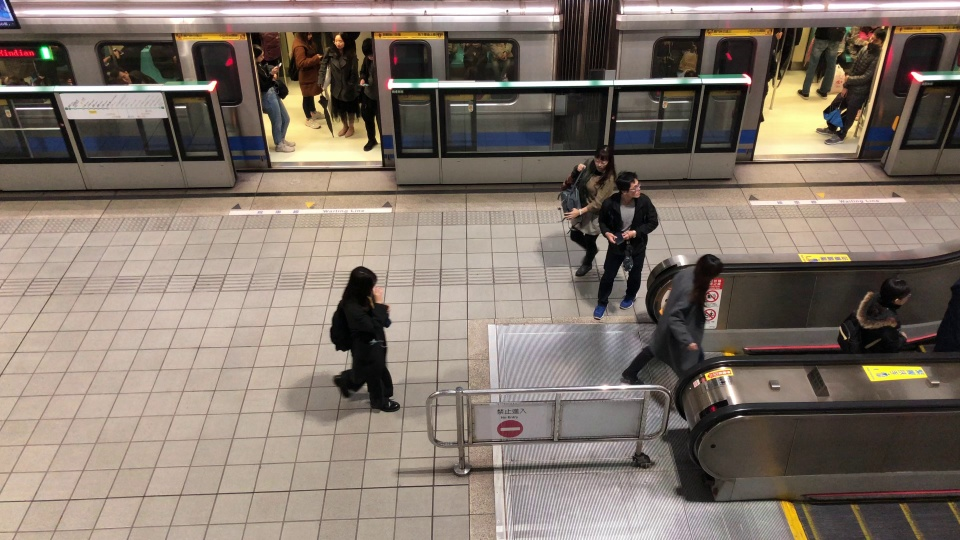person_head: (346, 267, 378, 309), (691, 254, 724, 292), (880, 275, 913, 311), (616, 169, 641, 202), (592, 142, 613, 172), (865, 26, 887, 50), (359, 38, 377, 61), (250, 43, 265, 63), (296, 31, 312, 44), (333, 34, 346, 50)
person_vbox: (617, 254, 726, 388), (588, 170, 660, 321), (328, 267, 402, 413), (814, 26, 888, 149), (558, 141, 616, 275), (834, 275, 913, 358), (248, 43, 296, 155), (317, 34, 361, 138), (289, 32, 325, 128), (359, 38, 388, 149), (799, 25, 838, 104), (932, 270, 960, 368)
